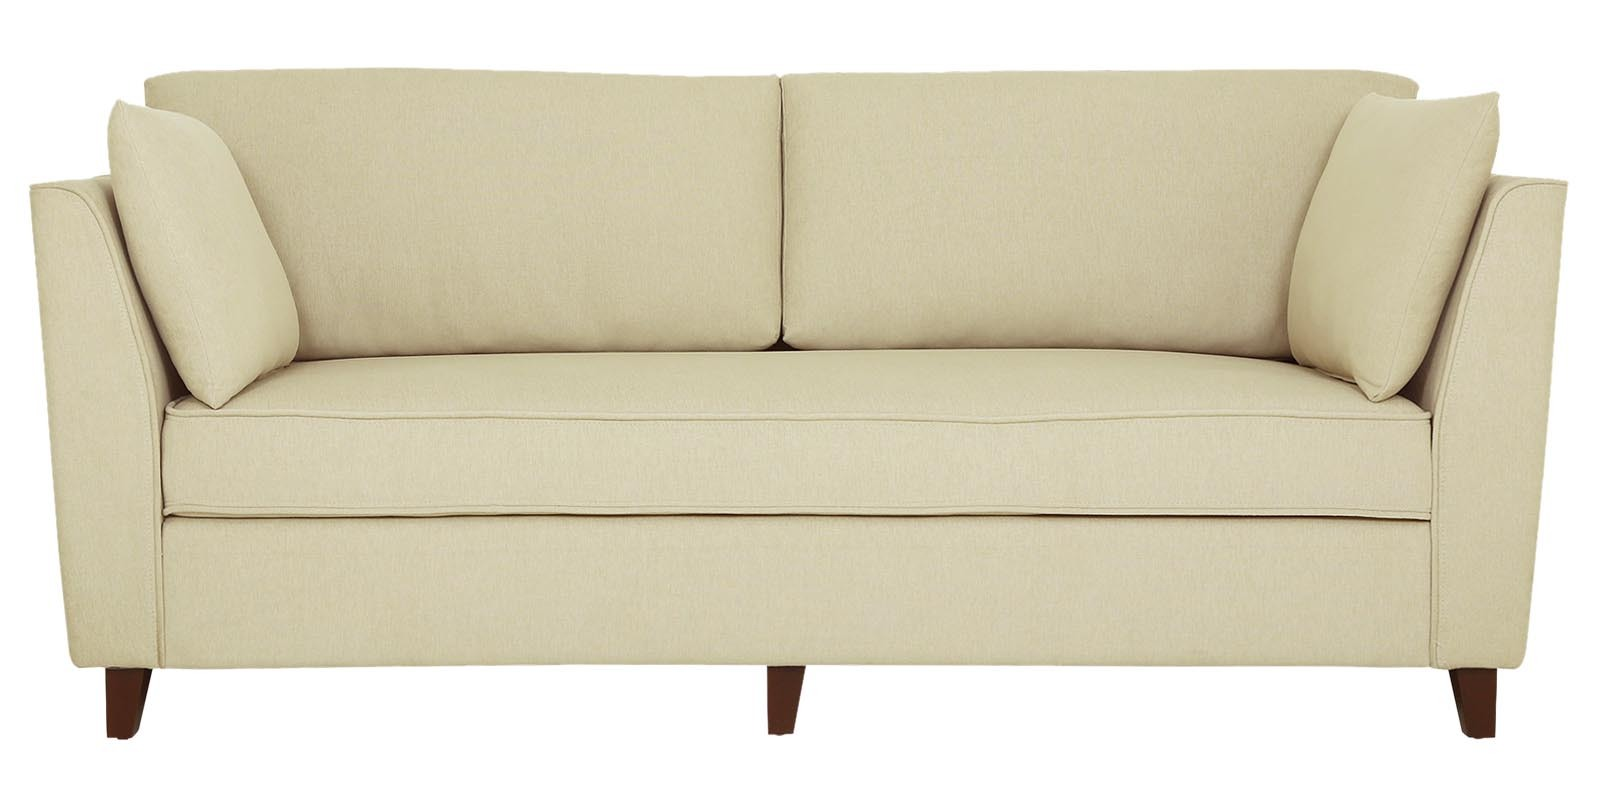Miranda Three Seater Sofa in Beige Colour by CasaCraft: (26, 65, 1570, 739)
